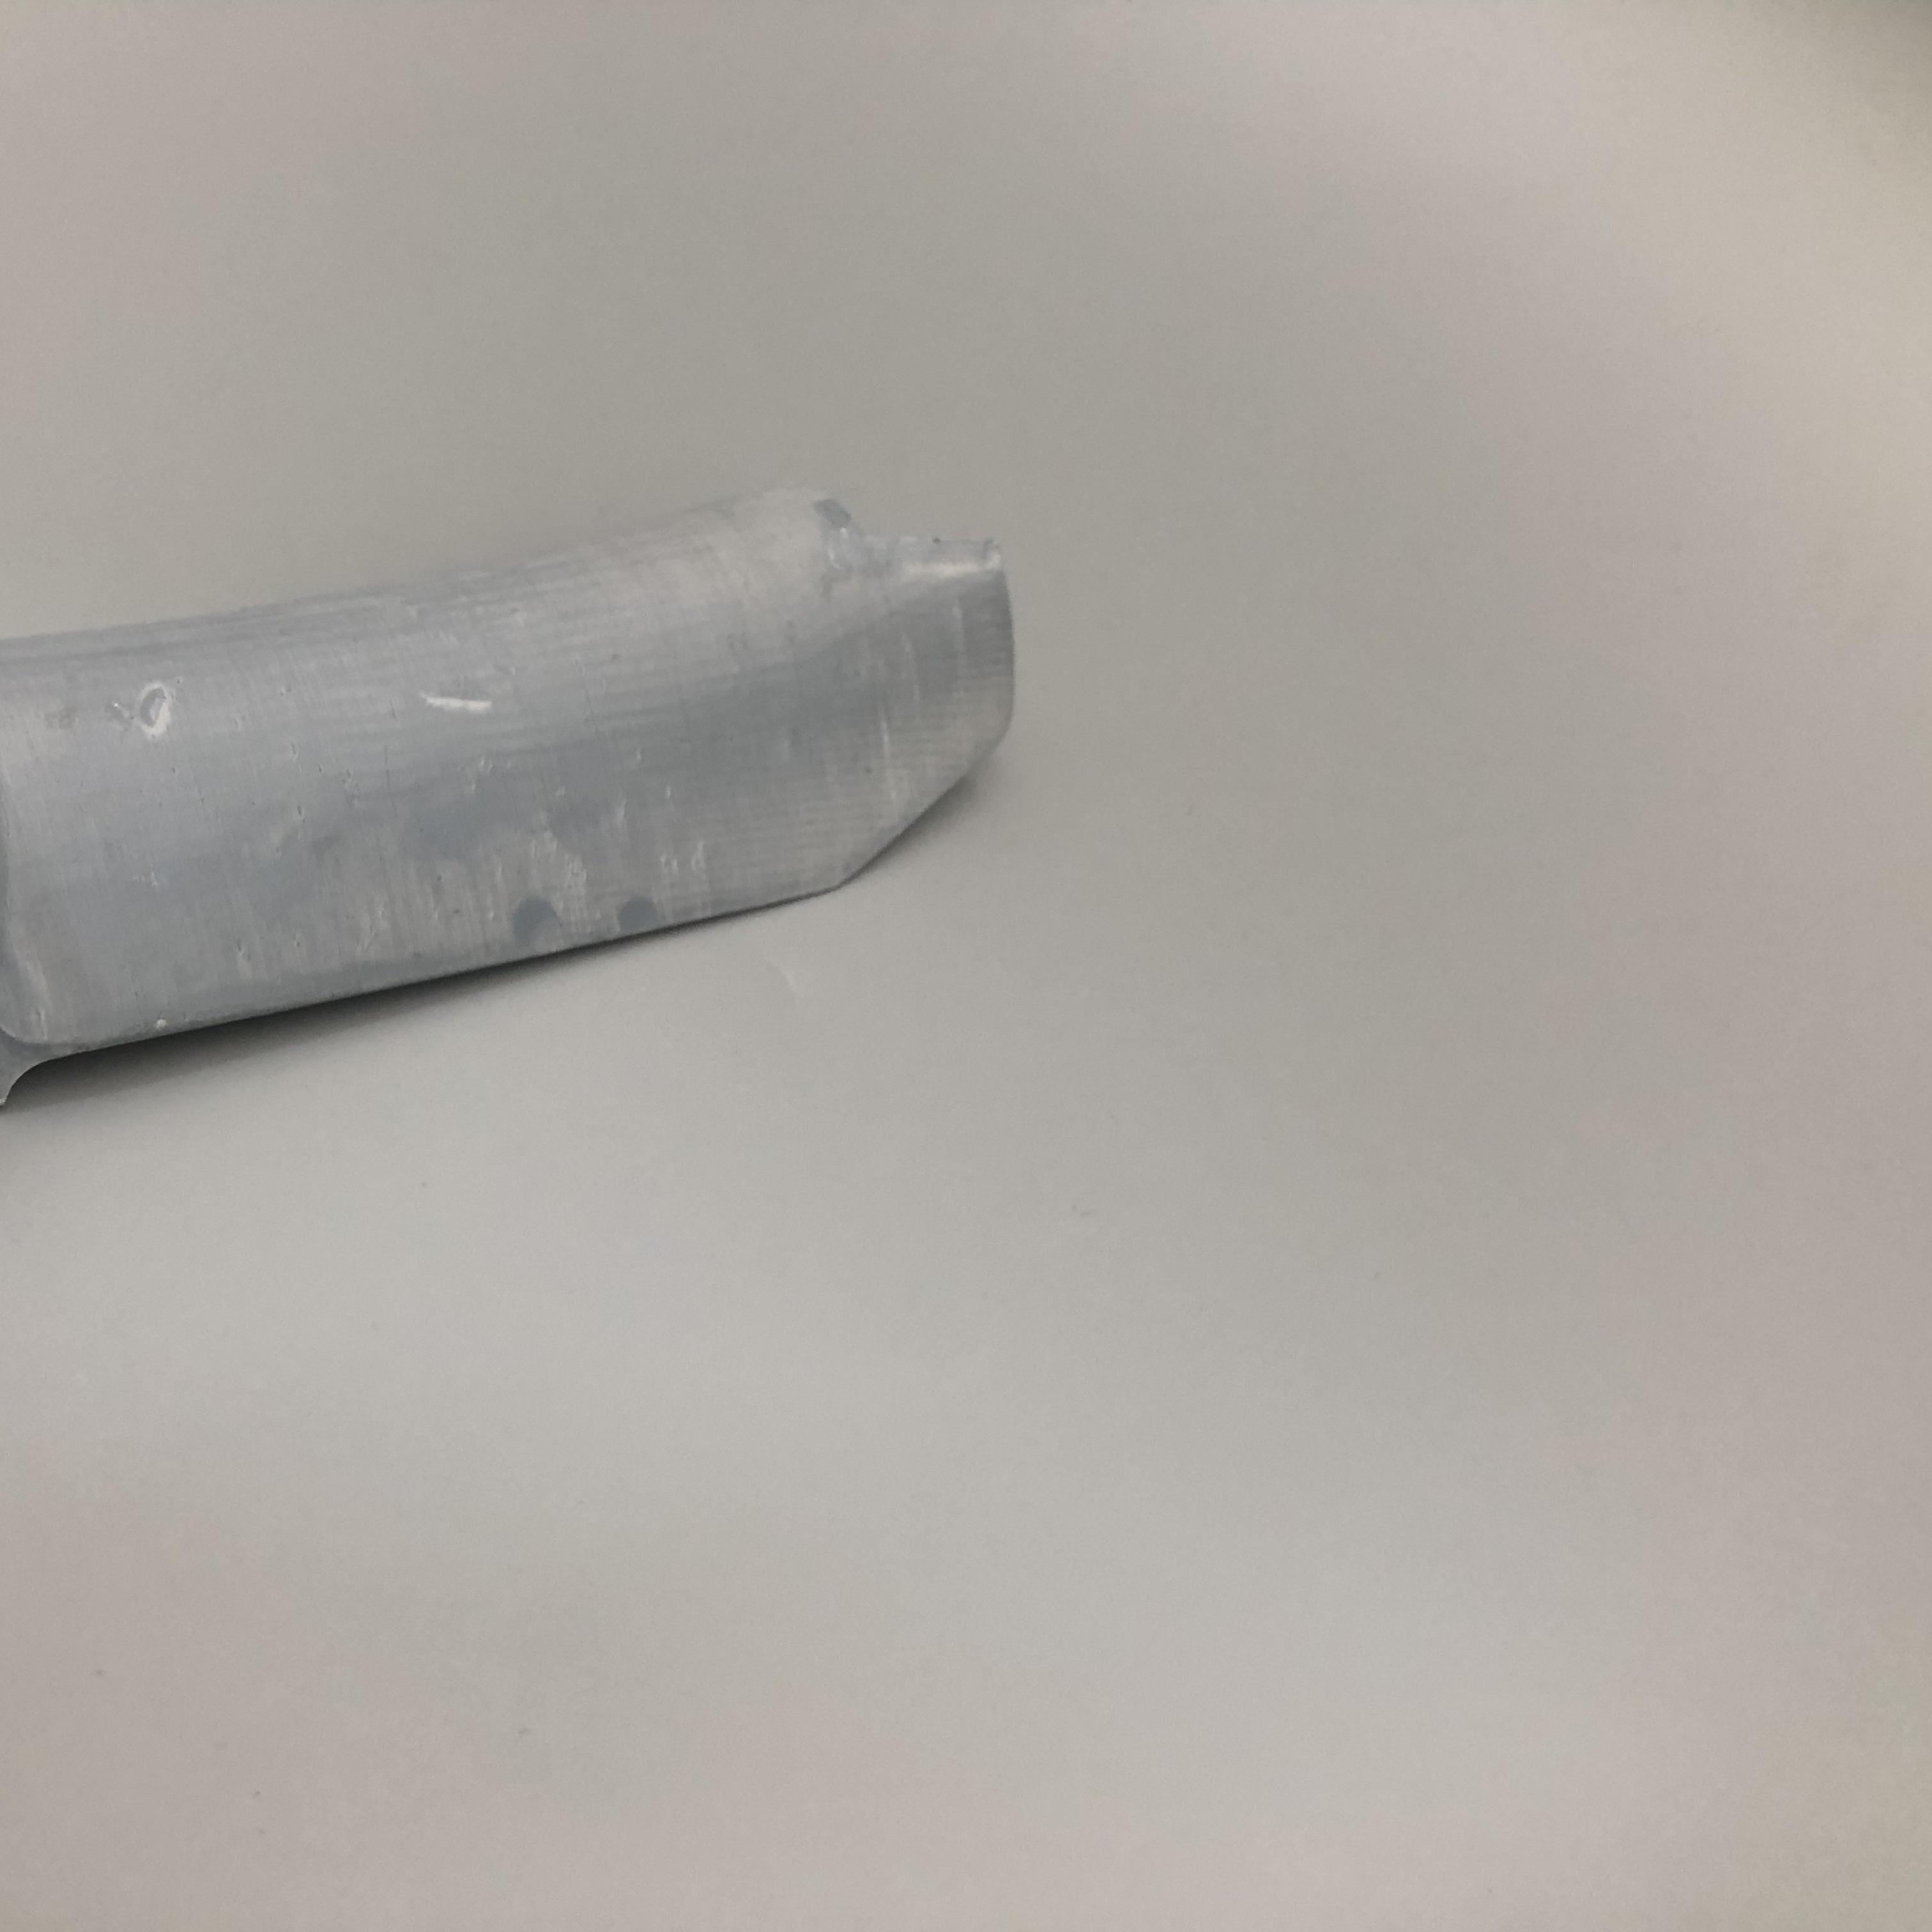fracture: (819, 483, 1008, 575)
